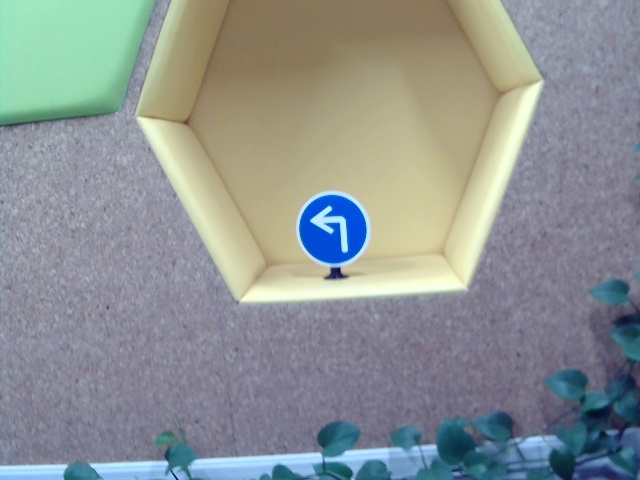turn_left: (310, 203, 352, 252)
